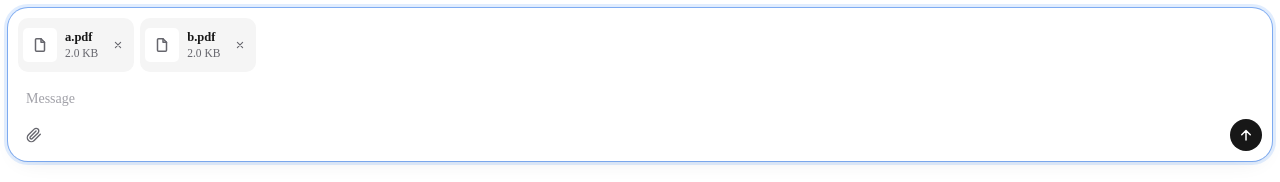
Test: attachments › removes attachments and submits them with the message
Click the button named "Remove a.pdf" at (118, 45), box [108,35,128,55]
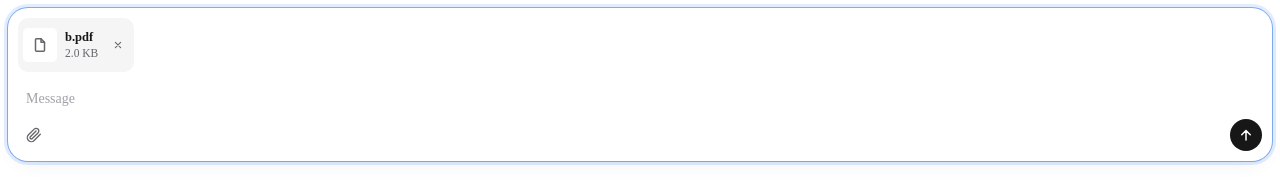
Expected: the button named "Send" is enabled, [1230,119,1262,151]
Press Enter in the field with class "bricka-input", box [8,72,1272,115]
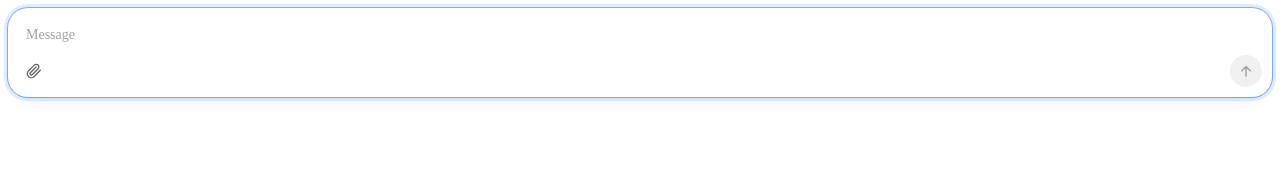
Expected: the list with class "bricka-attachments" is gone
